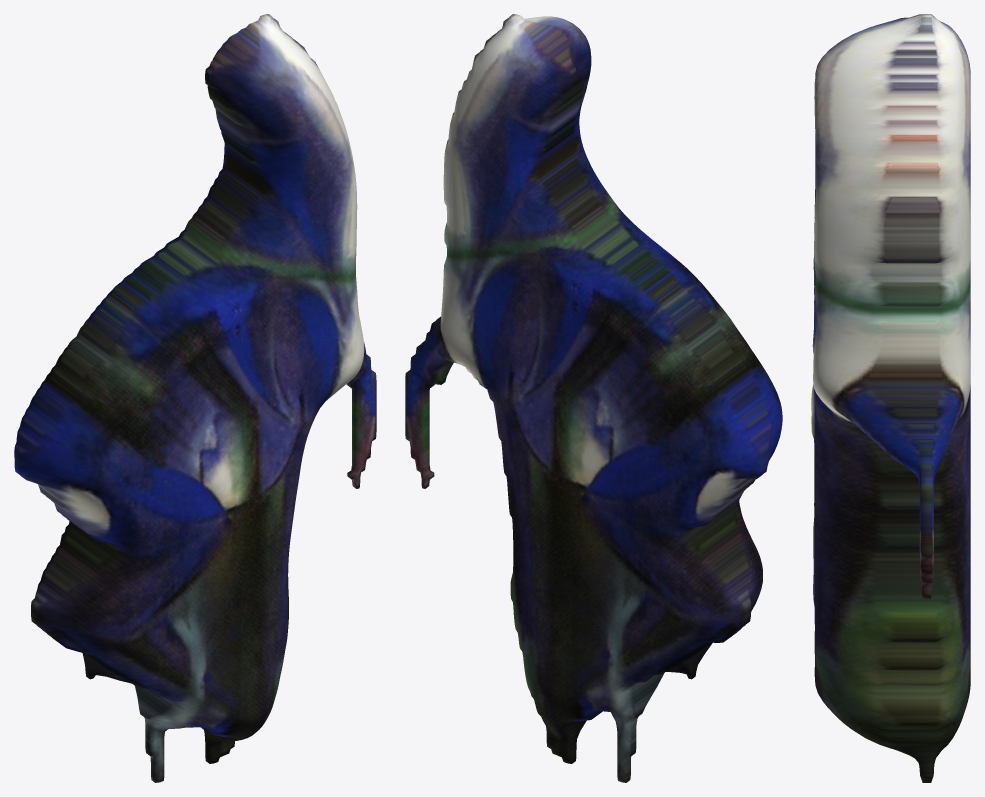
The model's file is marc-deer.glb.
The picture shows the model from 3 angles, left to right: view 1: azimuth 30°, elevation 25°; view 2: azimuth 150°, elevation 25°; view 3: azimuth 270°, elevation 25°; orthographic projection. The views are drawn at different scales.
Visible parts, largest first — view 1: marc-deer; view 2: marc-deer; view 3: marc-deer.
Boxes of the visible parts, <box> form: marc-deer: <box>14,14,376,782</box>; marc-deer: <box>405,14,782,782</box>; marc-deer: <box>811,14,970,782</box>.
Size of the model in its own units: 0.9378 by 1.85 by 0.3345.
1 material, 1 textured.
